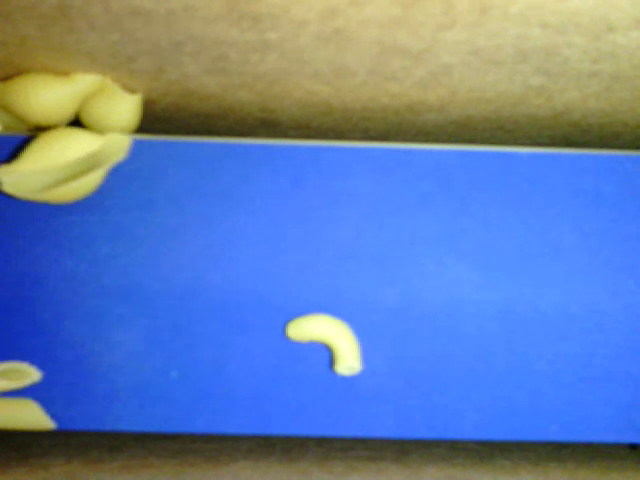elbow: (279, 310, 361, 376)
penne: (1, 394, 65, 433), (1, 357, 46, 396)
shell: (1, 127, 135, 206), (1, 68, 105, 130), (76, 74, 143, 137)
